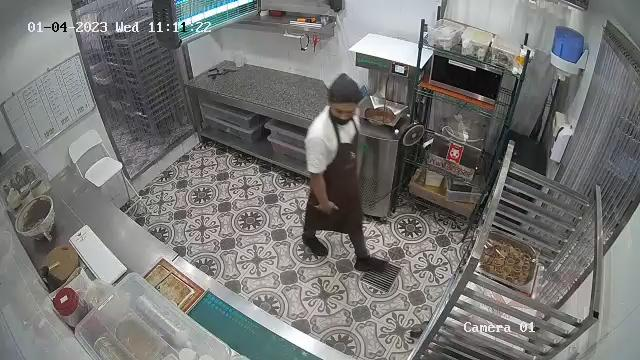apron: (318, 122, 364, 230)
